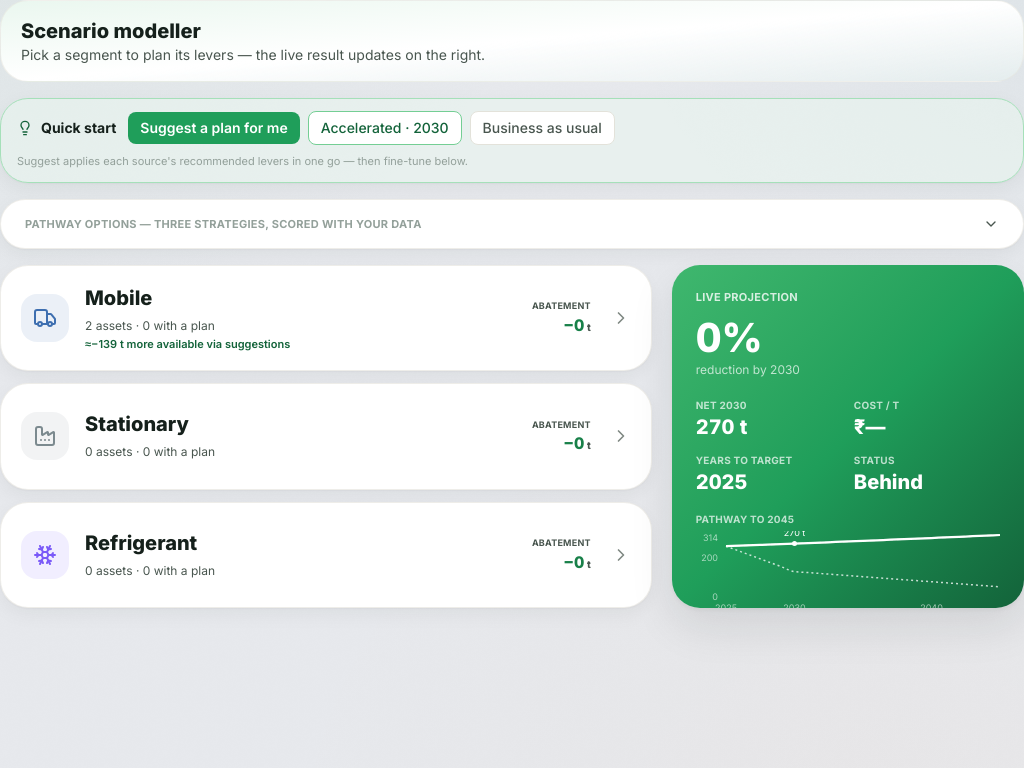
Scenario: BuilderTab — BU grouping + excluded badge (Task 4) › renders BU group headers for both Pune and Mumbai when on Mobile segment
// Navigate from home into Mobile segment
Click the text "Mobile" at [119, 298], box [85, 286, 152, 310]
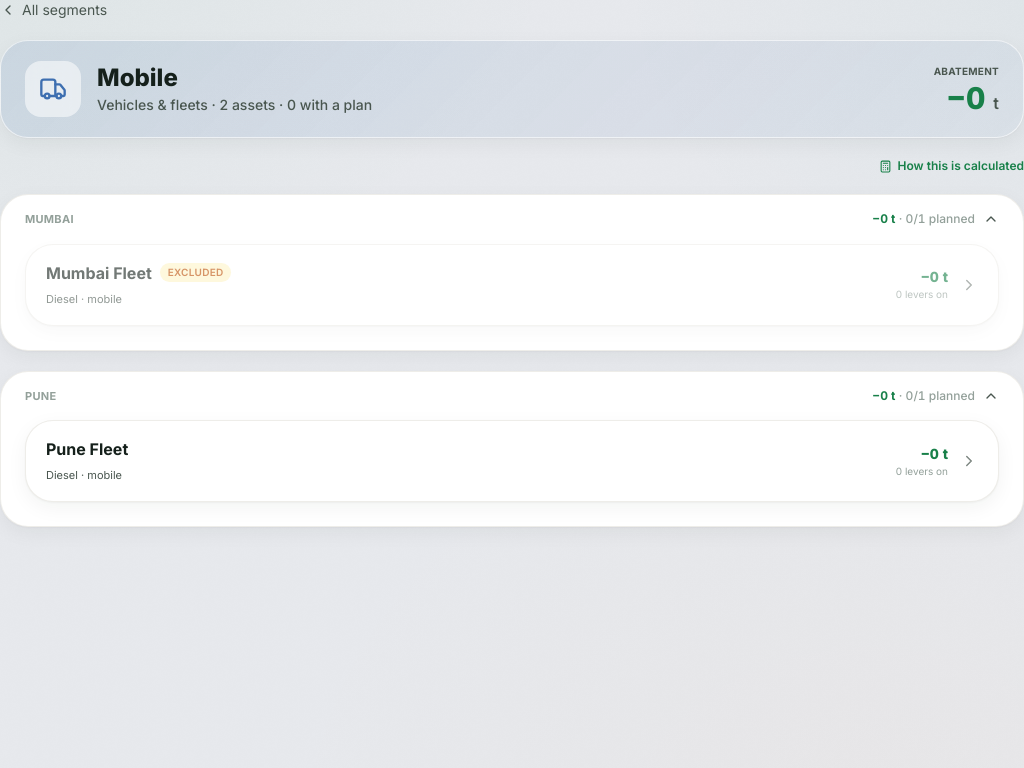
Check: the text "Pune" is shown, box [25, 388, 56, 404]
Check: the text "Mumbai" is shown, box [25, 211, 74, 228]
